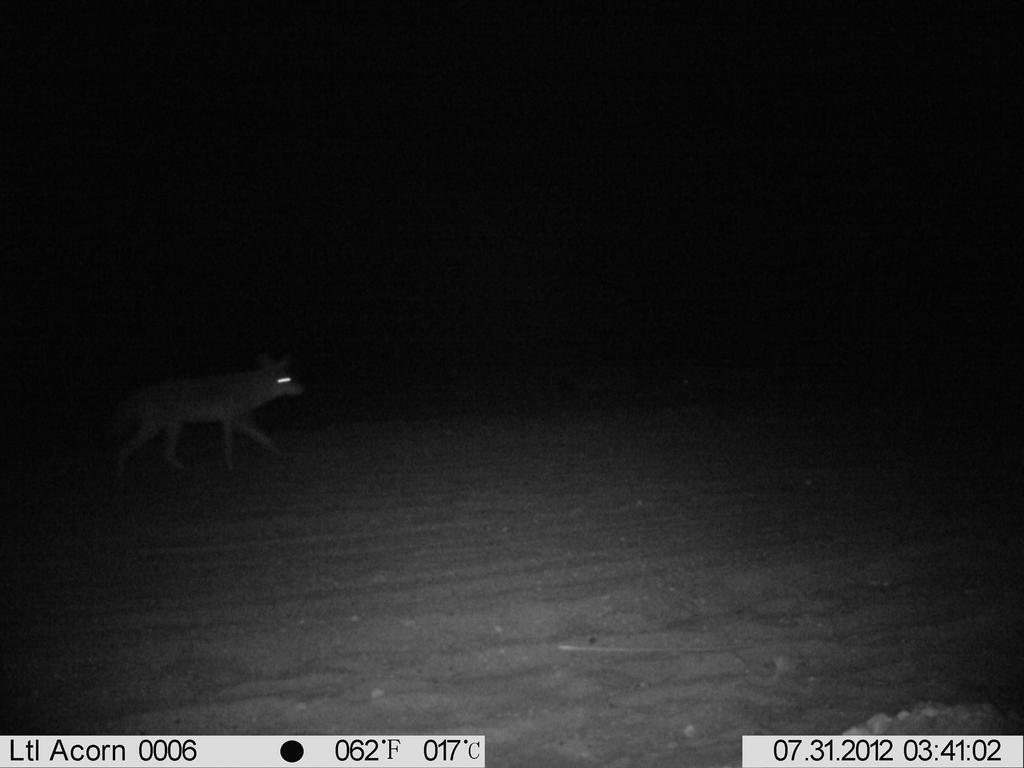coyote: (95, 340, 315, 482)
